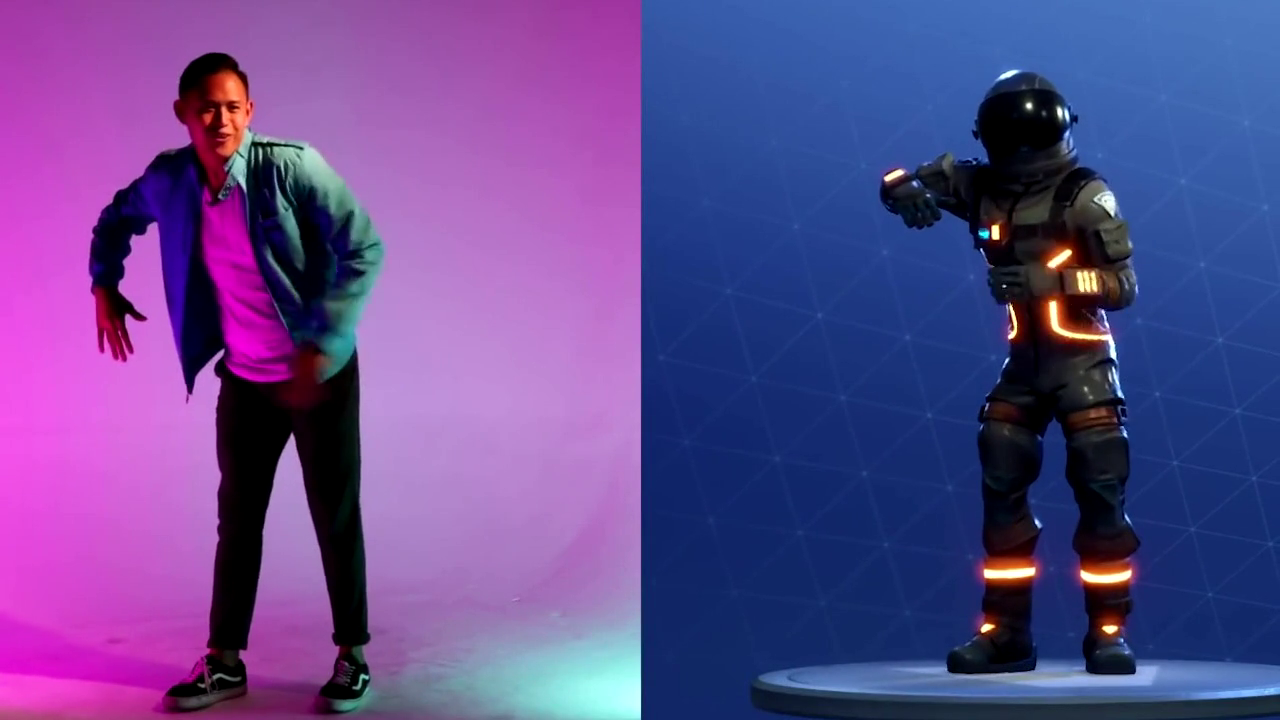Head: (161, 39, 263, 169)
Hip: (171, 362, 392, 443)
LeftAnkle: (300, 618, 407, 715)
LeftElbow: (314, 214, 405, 291)
LeftKnee: (298, 474, 375, 547)
LeftShoulder: (245, 123, 343, 210)
LeftWrist: (252, 331, 371, 401)
RightAnkle: (156, 626, 271, 710)
RightElbow: (71, 194, 158, 277)
RightKnee: (206, 478, 281, 560)
RightShoulder: (124, 144, 209, 212)
RightWrist: (62, 282, 160, 369)
Torso: (157, 157, 322, 367)
